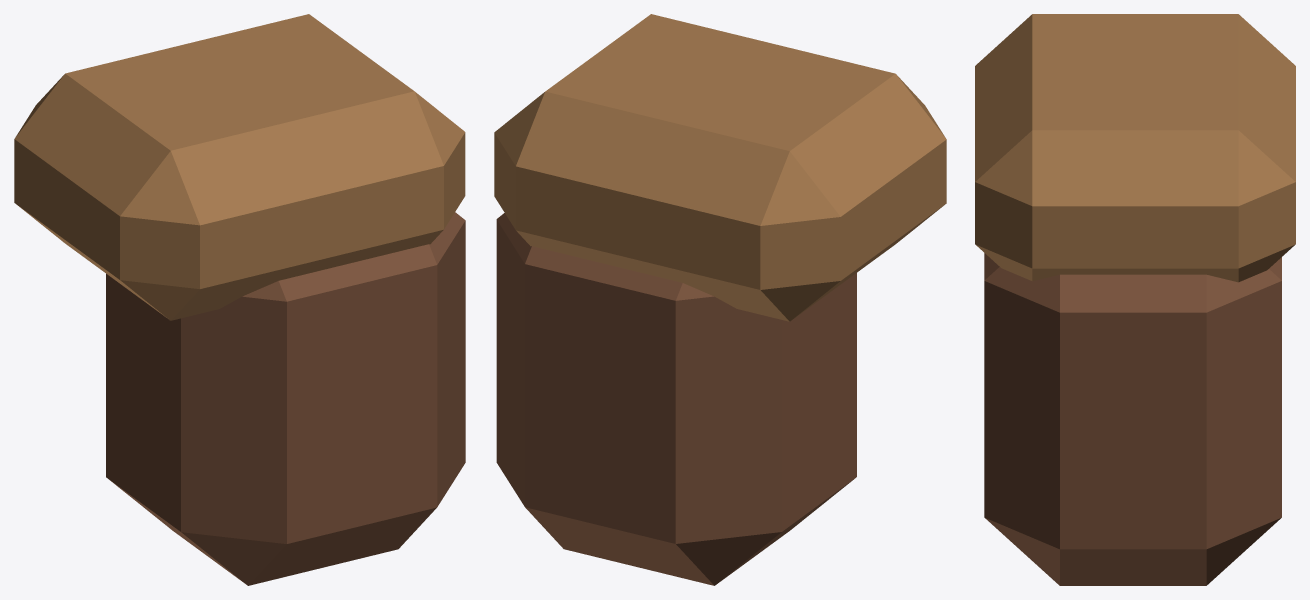
File: leather_gloves.glb
3 views of the same model, side by side, from view 1: azimuth 30°, elevation 25°; view 2: azimuth 150°, elevation 25°; view 3: azimuth 270°, elevation 25° (orthographic). The views are drawn at different scales.
Parts seen in each view (by area): view 1: Gear_Gloves_Leather__Hand_R, Gear_Gloves_Leather__Cuff_R; view 2: Gear_Gloves_Leather__Hand_R, Gear_Gloves_Leather__Cuff_R; view 3: Gear_Gloves_Leather__Hand_R, Gear_Gloves_Leather__Cuff_R.
Boxes of the visible parts, x1,y1,x2,y2 form: Gear_Gloves_Leather__Hand_R: [106, 212, 465, 585]; Gear_Gloves_Leather__Cuff_R: [14, 14, 465, 320]; Gear_Gloves_Leather__Hand_R: [496, 213, 856, 585]; Gear_Gloves_Leather__Cuff_R: [494, 14, 946, 321]; Gear_Gloves_Leather__Hand_R: [984, 253, 1281, 585]; Gear_Gloves_Leather__Cuff_R: [975, 14, 1295, 282].
Bounding box in the file's own units: 0.177 × 0.22 × 0.14.
